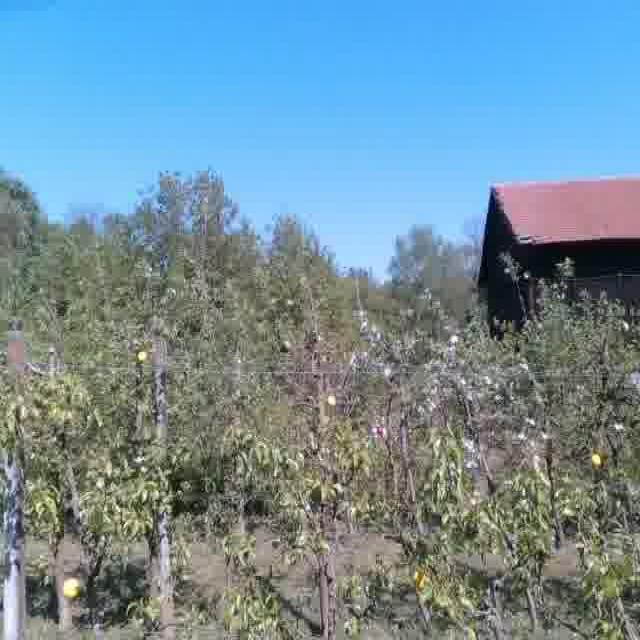red: (375, 422, 386, 438)
yellow: (62, 573, 82, 602), (135, 347, 150, 365), (592, 450, 603, 468), (327, 392, 337, 404)
